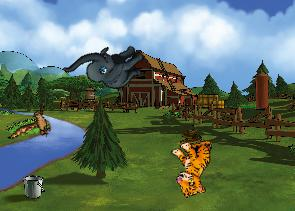eagle: (7, 96, 60, 154)
elephant: (62, 22, 151, 110)
tiger: (165, 134, 224, 199)
